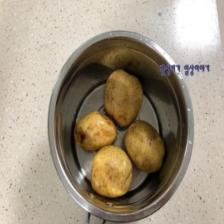Potato: (102, 67, 144, 127), (90, 143, 135, 199), (123, 119, 165, 173), (74, 108, 118, 149)
